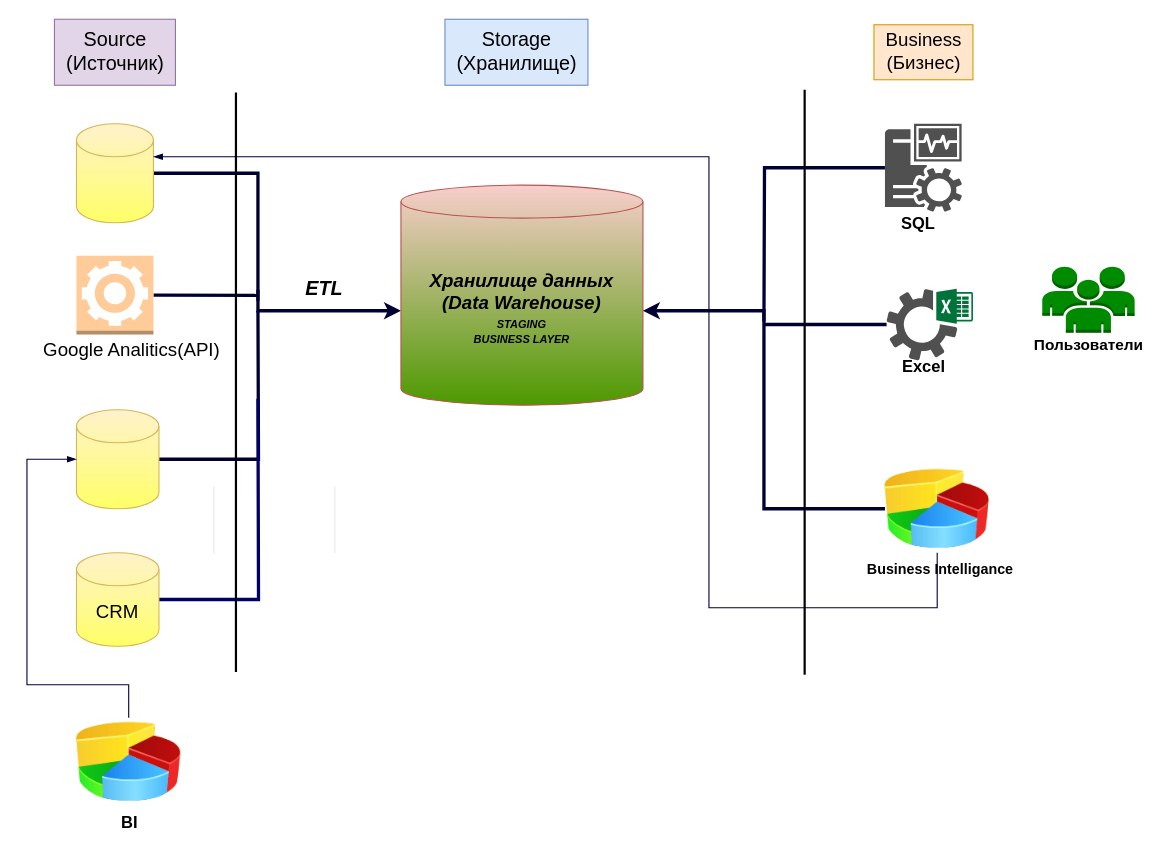
Some shapes in this 1168 by 858 pixel diagram are drawn without their labels. Here are the shapes that lost their labels. From the top down, the centre of each, then its label:
the point at 114,173: ПРОДАЖИ
the point at 117,459: СКЛАД
